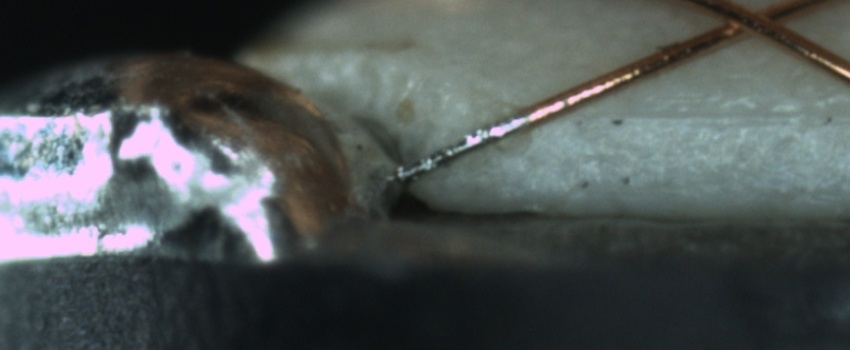CL: (704, 1, 791, 45)
DL: (598, 82, 850, 150)
TS: (388, 107, 530, 185)
